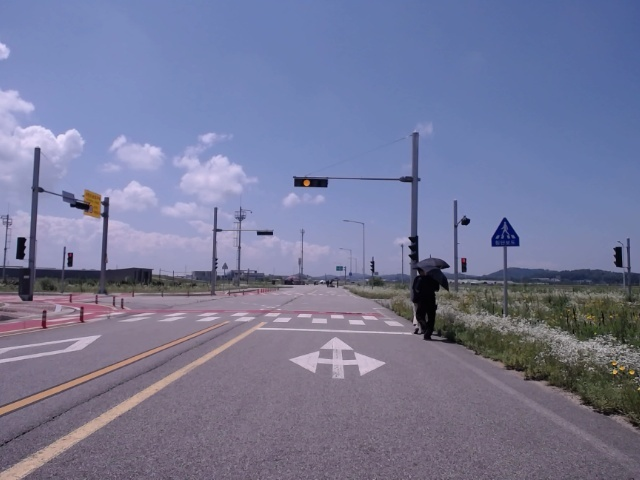orange_4: (292, 177, 329, 188)
